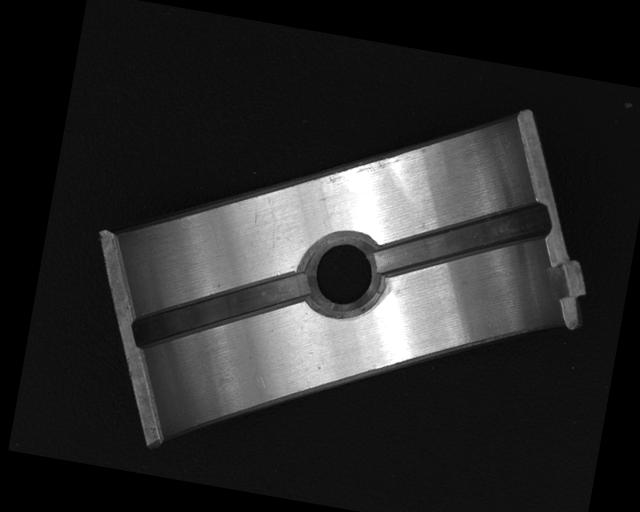gap: (129, 242, 310, 374), (372, 176, 551, 301)
hole: (299, 224, 386, 325)
